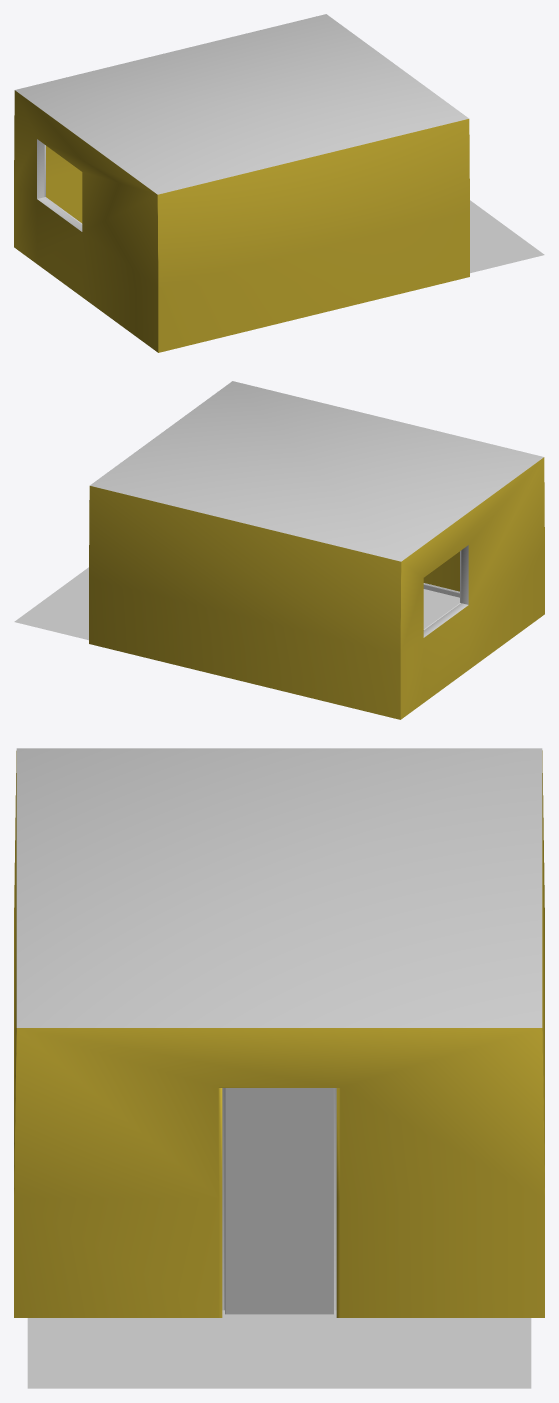
File: ChildsRoom.fbx
The picture shows the model from 3 angles, top to bottom: view 1: azimuth 30°, elevation 25°; view 2: azimuth 150°, elevation 25°; view 3: azimuth 270°, elevation 25°; orthographic projection. The views are drawn at different scales.
Parts seen in each view (by area): view 1: Cube, Cube.001; view 2: Cube, Cube.001, Cube.002; view 3: Cube, Cube.001, Cylinder, Cube.002.
Part boxes in pixels (x1,y1,x2,y2): Cube: [14, 14, 469, 352]; Cube.001: [470, 200, 544, 273]; Cube: [89, 381, 544, 719]; Cube.001: [14, 567, 459, 640]; Cube.002: [423, 550, 461, 629]; Cube: [14, 748, 544, 1317]; Cube.001: [27, 1310, 531, 1388]; Cylinder: [225, 1088, 333, 1314]; Cube.002: [222, 1088, 336, 1310].
Size of the model in its own units: 2107 by 816 by 1350.
